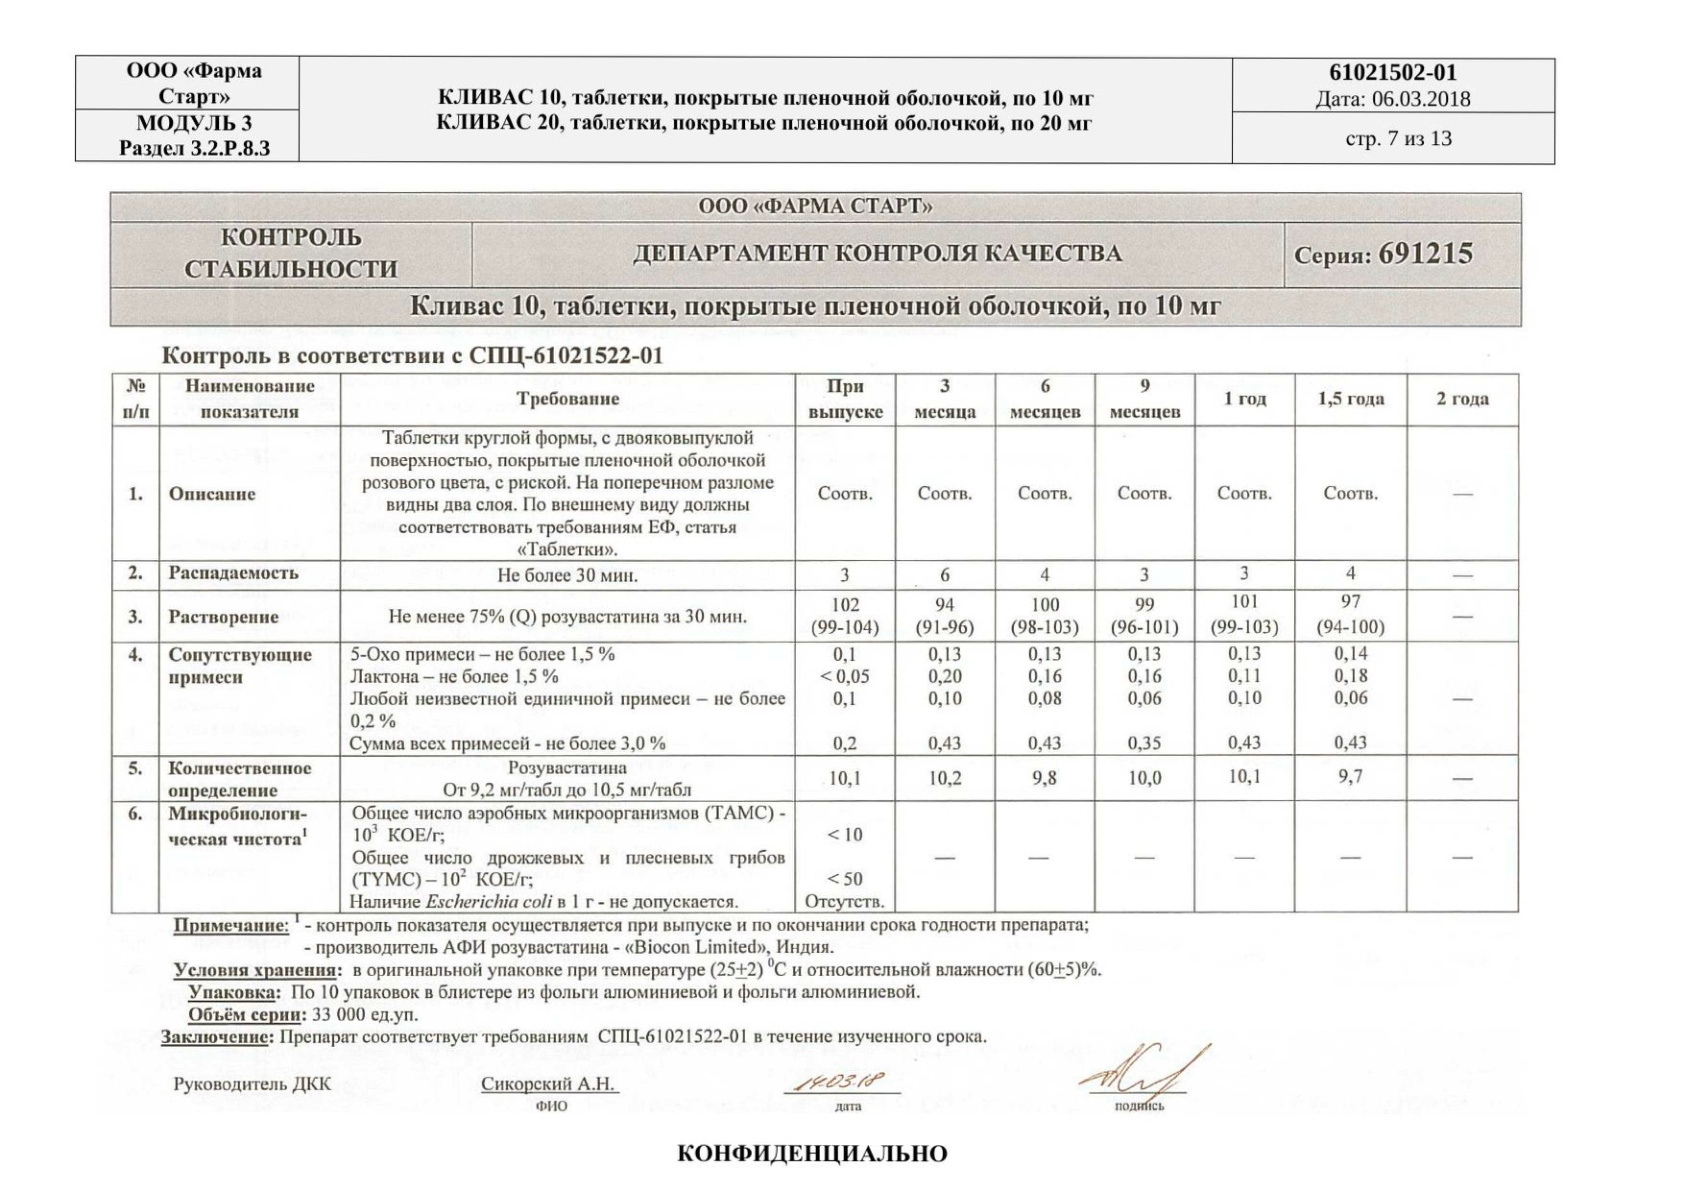full_lined: (108, 370, 1521, 915)
merged_cells: (108, 190, 1522, 326), (74, 53, 1556, 165)
